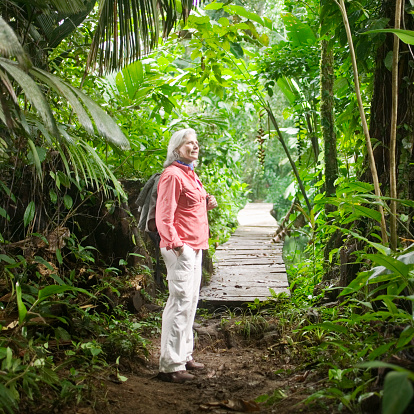em pe: (144, 120, 220, 366)
